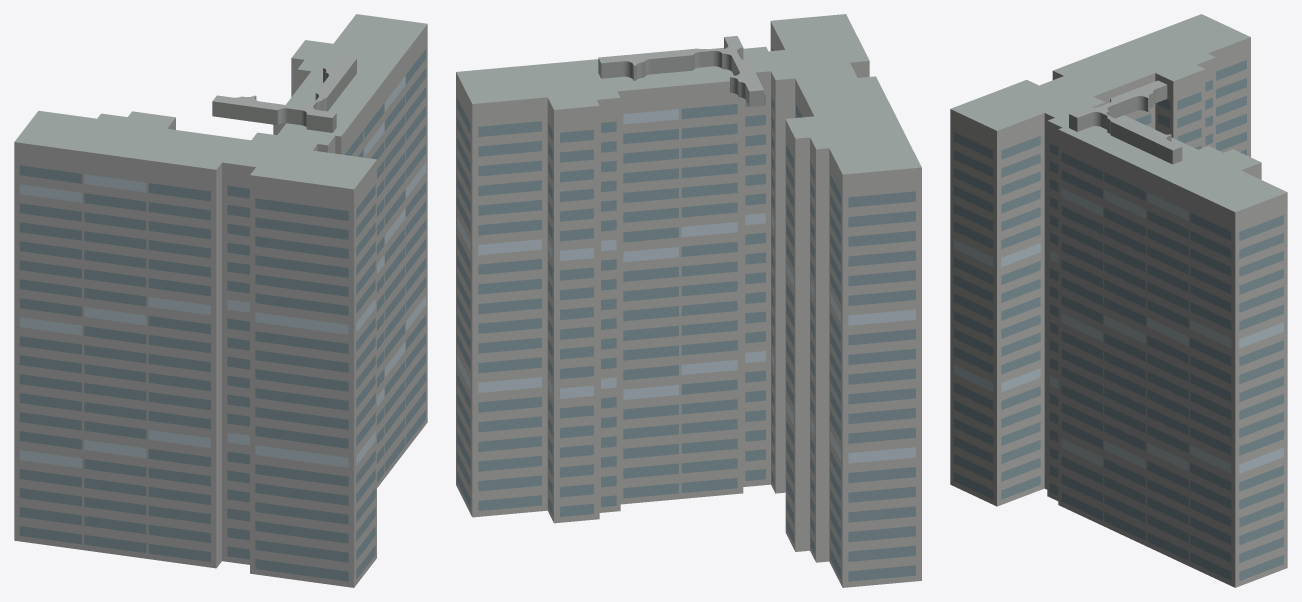
Rendered from fallback-gaepo-xi-presidence-408.glb.
3 renders of one model, left to right at view 1: azimuth 30°, elevation 25°; view 2: azimuth 150°, elevation 25°; view 3: azimuth 270°, elevation 25°, orthographic. The views are drawn at different scales.
Parts seen in each view (by area): view 1: fallback-gaepo-xi-presidence-408; view 2: fallback-gaepo-xi-presidence-408; view 3: fallback-gaepo-xi-presidence-408.
Boxes of the visible parts, x1,y1,x2,y2 form: fallback-gaepo-xi-presidence-408: (14, 14, 427, 587); fallback-gaepo-xi-presidence-408: (456, 14, 921, 587); fallback-gaepo-xi-presidence-408: (950, 14, 1287, 587).
Size of the model in its own units: 72.51 by 66.45 by 52.17.
